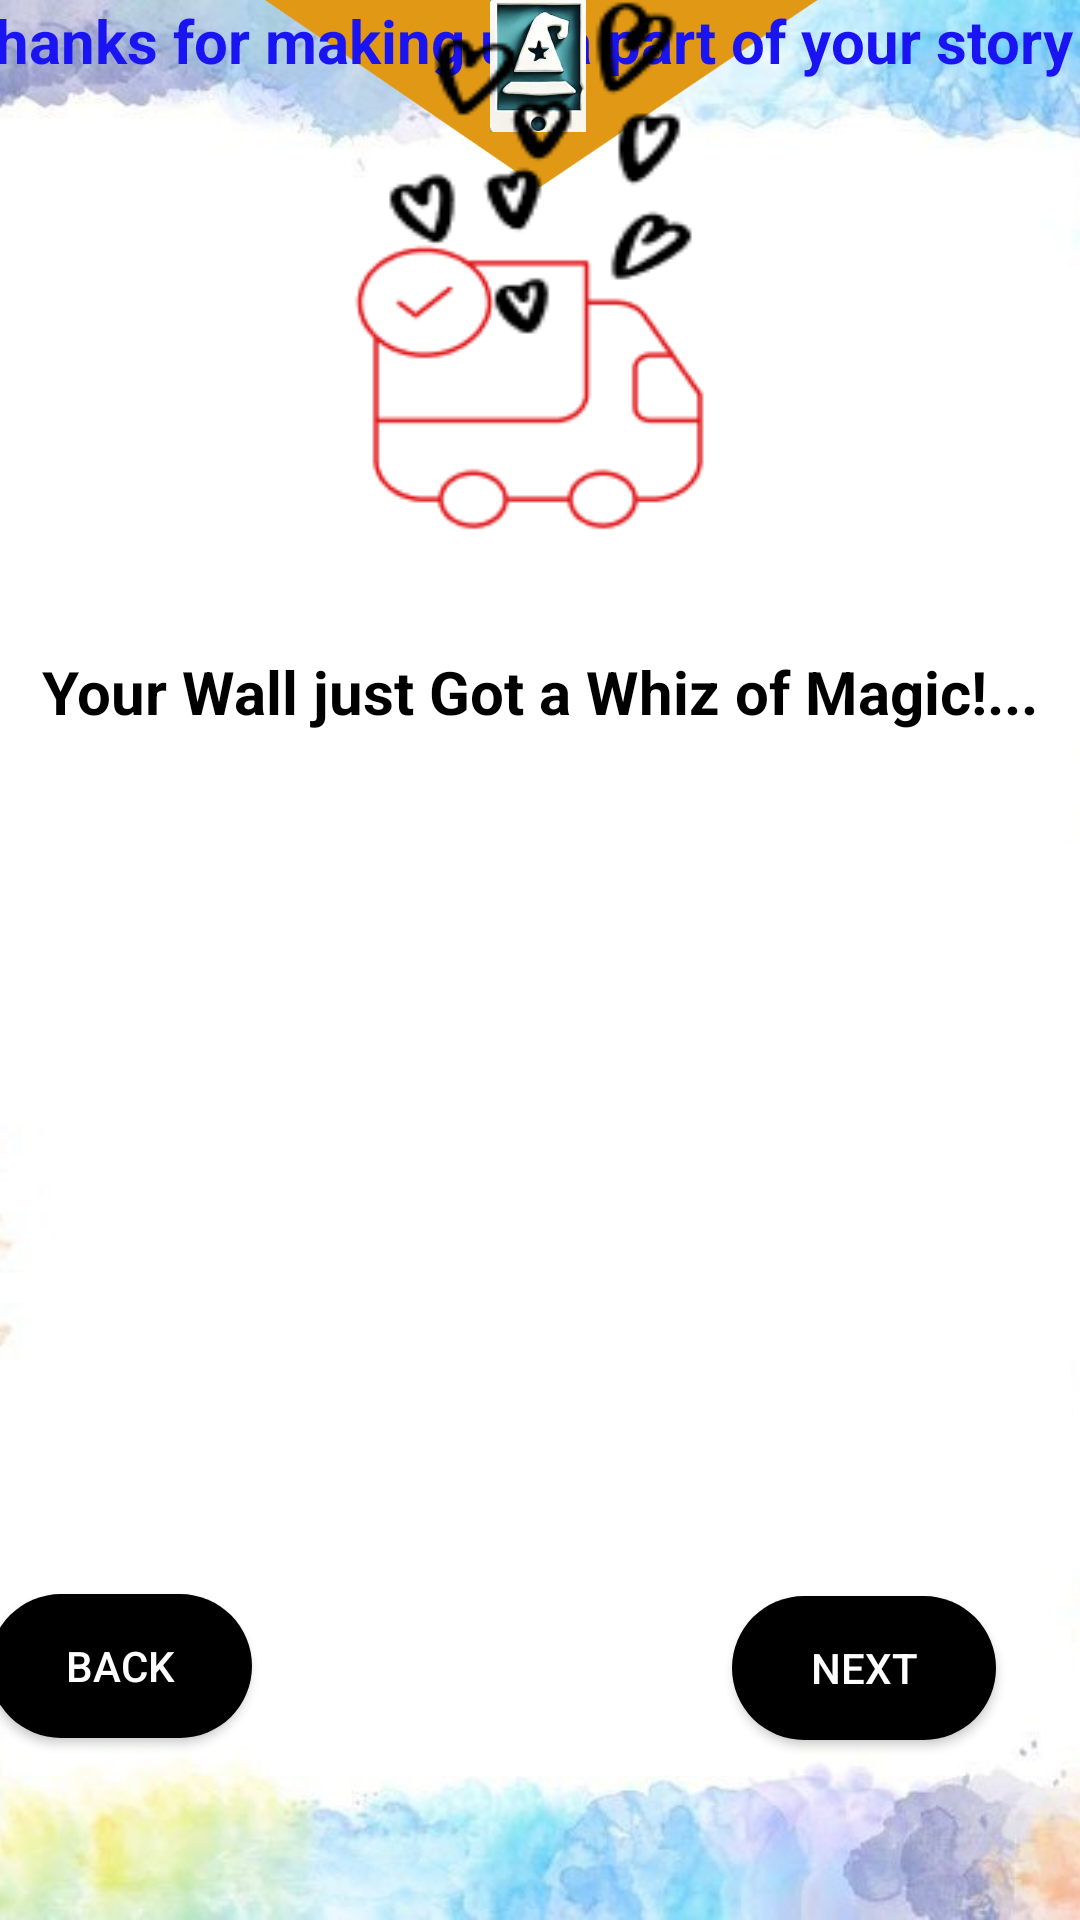

Icon bounding boxes for this 1080*1920 phone screenshot, format (x1, y1, x2, y2):
truck: (355, 246, 704, 530)
